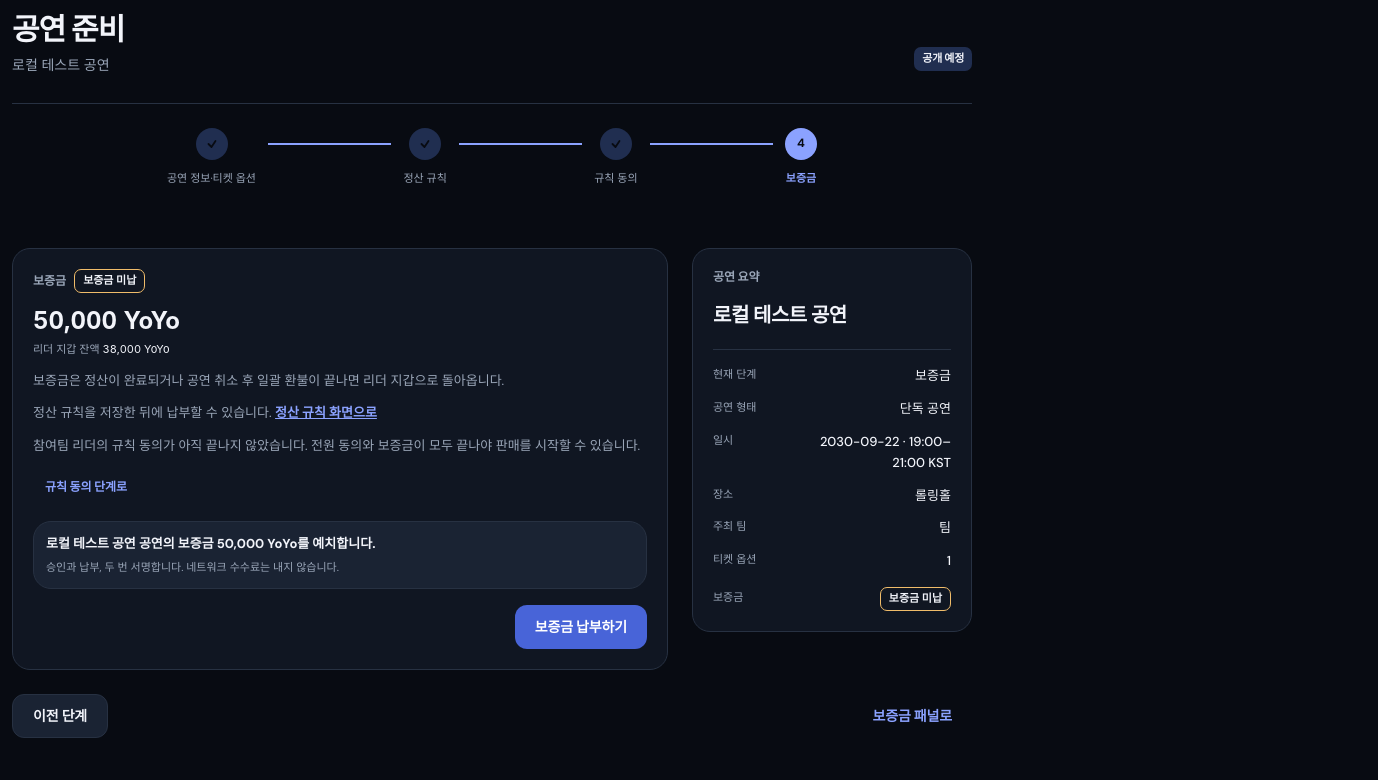
Scenario: 보증금 확정 실패 경로 › prepare 409 는 code 로 갈린다 › 잔액 부족이면 부족액을 담아 §5.16 안내를 띄운다
The width and height of the screenshot is (1378, 780).
Click the button "보증금 납부하기" at (581, 627), box [515,605,647,649]
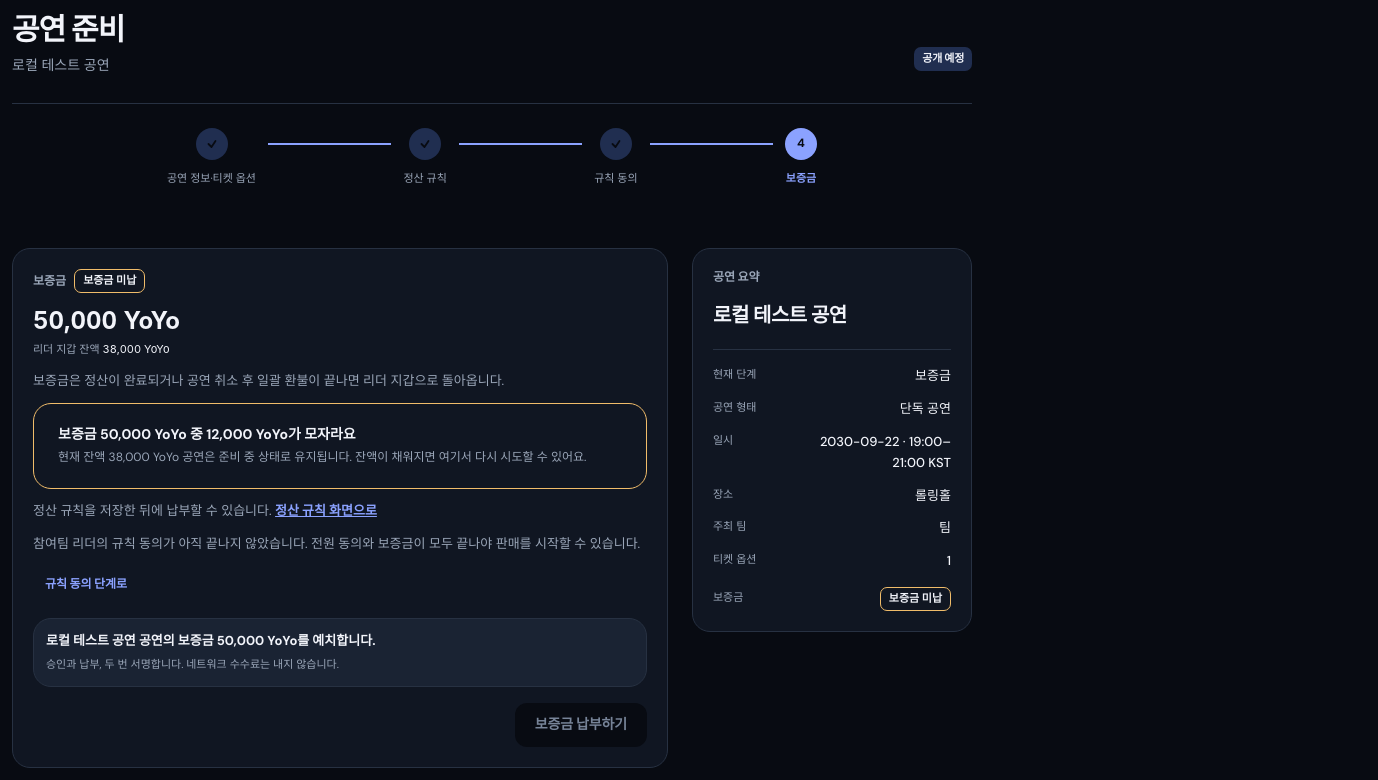
Check: the text "보증금 50,000 YoYo 중 12,000 YoYo가 모자라요" is shown, box [58,425,356,443]
